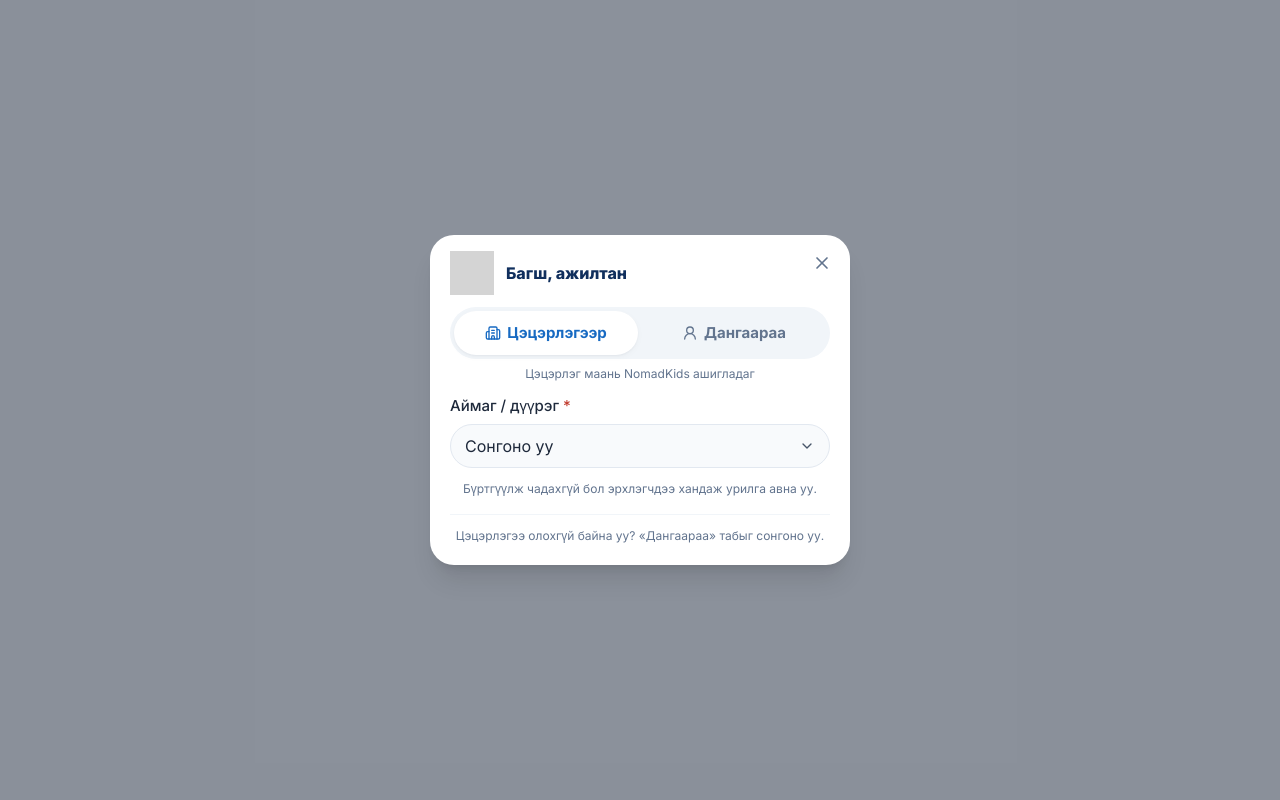
it: «Цэцэрлэгээр» — staff of a kindergarten on NomadKids › «Миний цэцэрлэг энд алга» moves to «Дангаараа» with the district kept
The image size is (1280, 800).
Click the dropdown named "Аймаг / дүүрэг" at (509, 446), box [450,424,830,468]
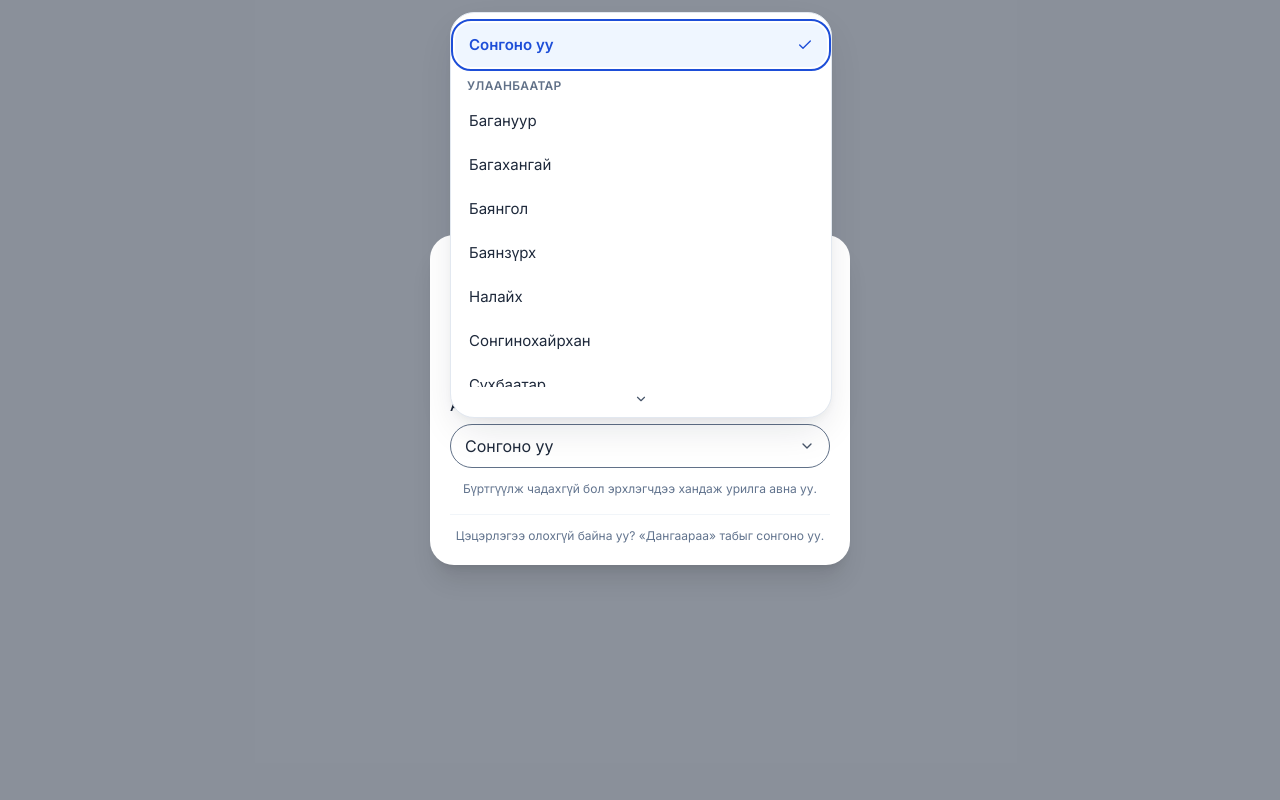
Click the option "Баянзүрх" at (503, 252), box [469,243,536,262]
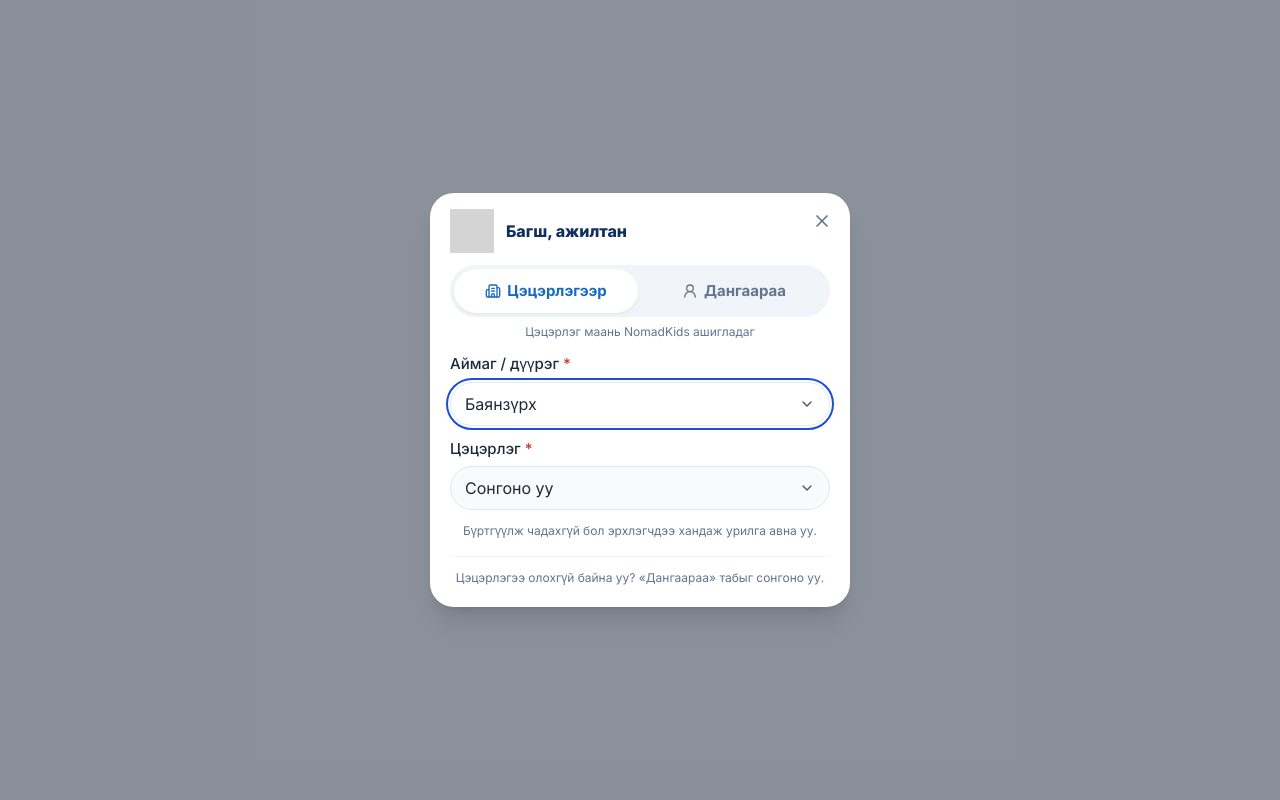
Click the dropdown named "Цэцэрлэг" at (509, 488), box [450,466,830,510]
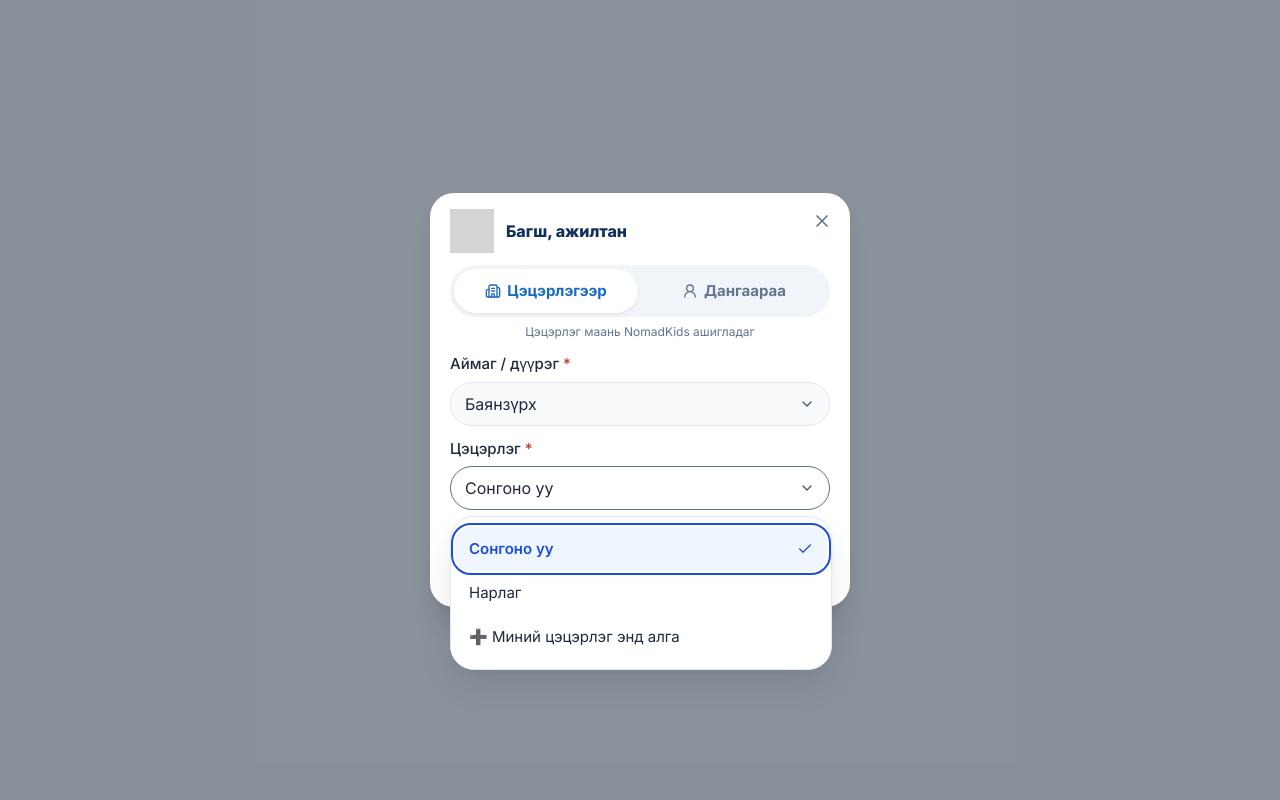
Click the option "➕ Миний цэцэрлэг энд алга" at (574, 636), box [469,627,680,646]
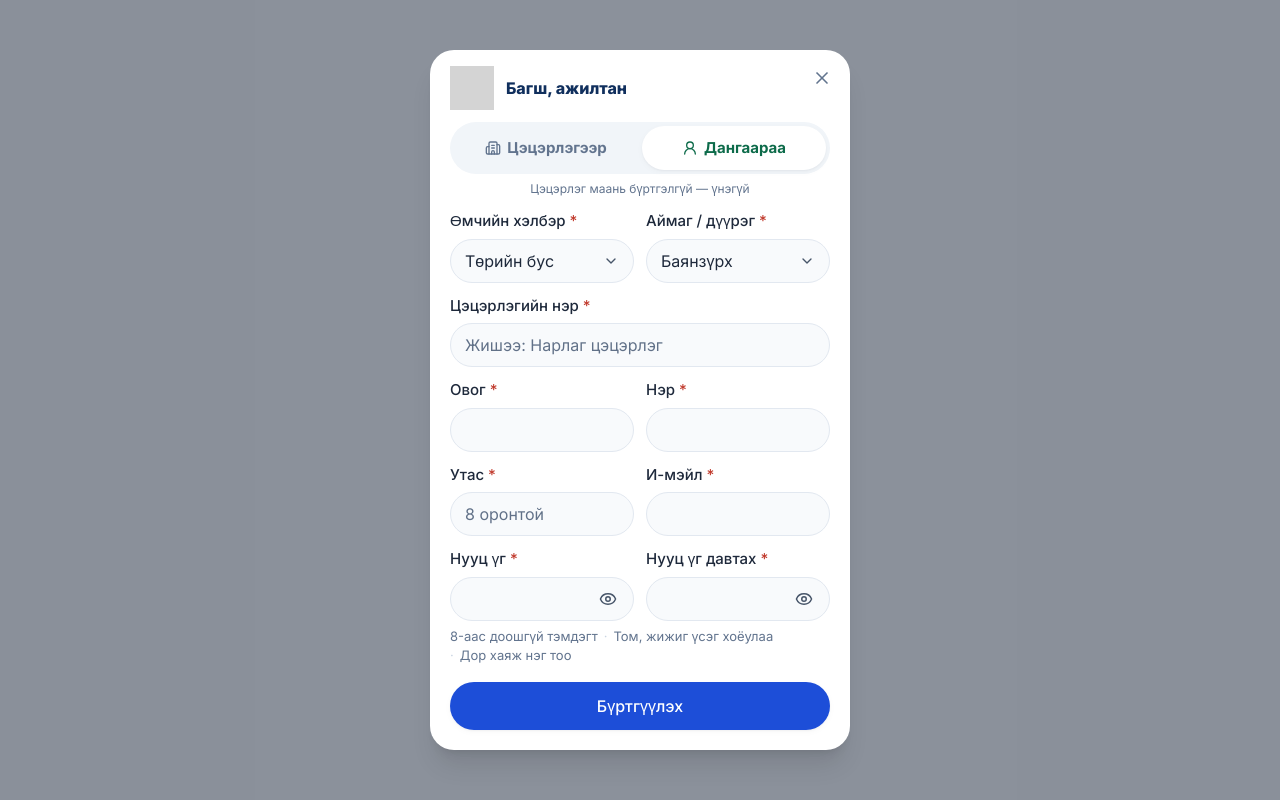
Result: the dropdown named "Аймаг / дүүрэг" reads "Баянзүрх" at [646,239,830,283]
Result: the field labelled "Цэцэрлэгийн нэр *" is shown at [450,323,830,367]
